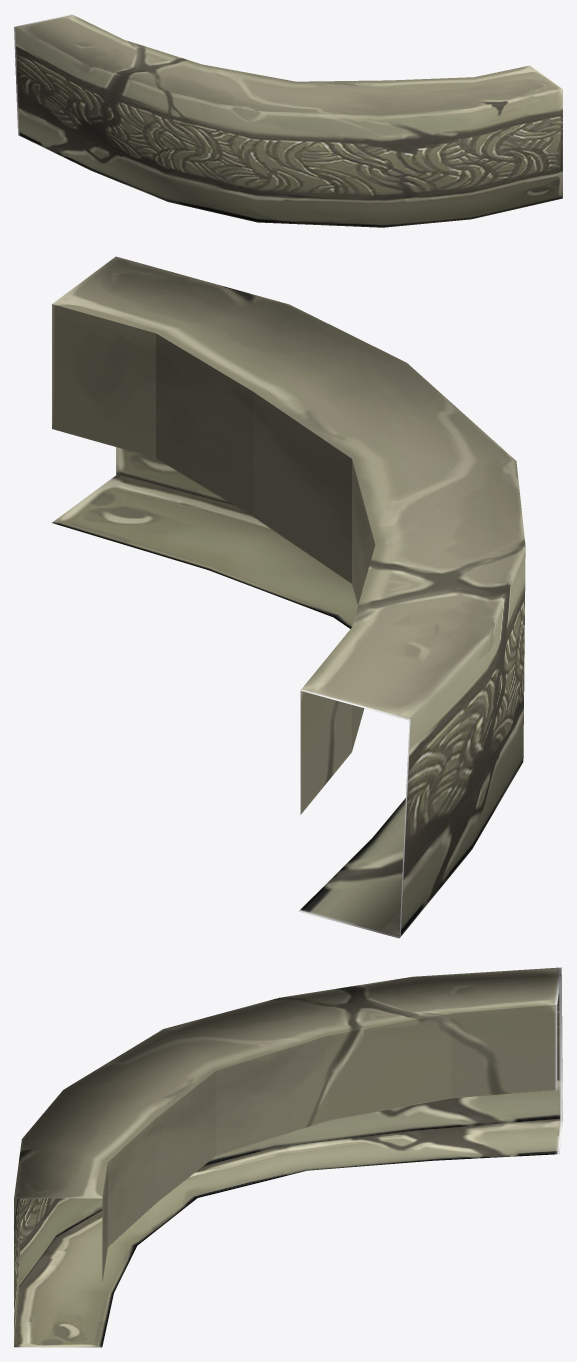
The model's file is wall_convex1_top.fbx.
The picture shows the model from 3 angles, top to bottom: view 1: azimuth 30°, elevation 25°; view 2: azimuth 150°, elevation 25°; view 3: azimuth 270°, elevation 25°; orthographic projection. The views are drawn at different scales.
Parts seen in each view (by area): view 1: convex1_v_cap; view 2: convex1_v_cap; view 3: convex1_v_cap.
Boxes of the visible parts, x1,y1,x2,y2 form: convex1_v_cap: [14, 14, 562, 227]; convex1_v_cap: [52, 256, 525, 938]; convex1_v_cap: [14, 967, 562, 1347].
Bounding box in the file's own units: 2.39 × 0.7208 × 2.4.
